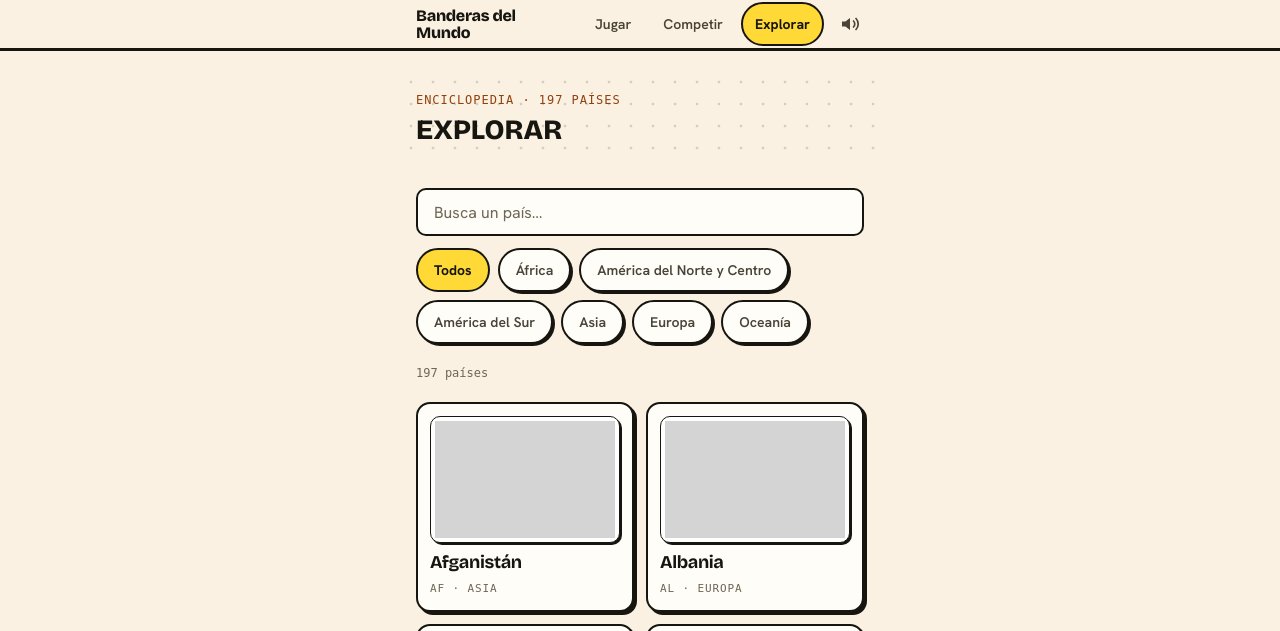
Test: Explorar › busca por "marfil", filtra por continente combinado y abre el detalle
Check: the heading "Explorar" is shown, box [416,113,562,147]
Type "marfil" into the search field named "Buscar país" at (640, 212), box [416,188,864,236]
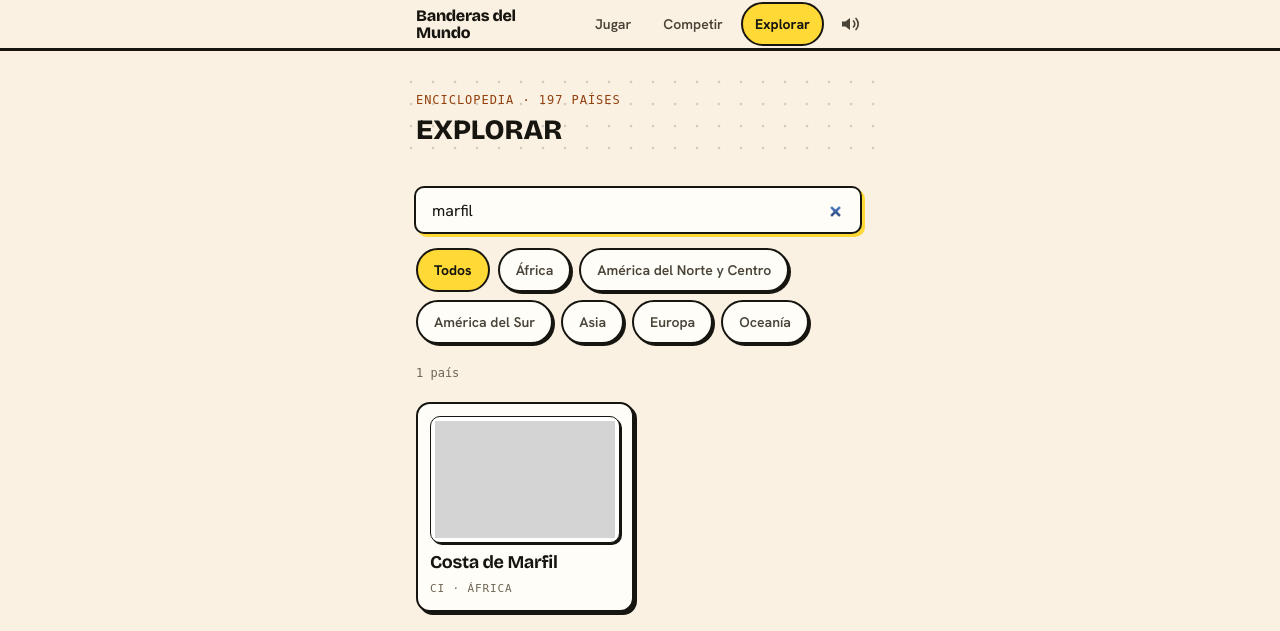
Check: the text "Costa de Marfil" is shown, box [430,551,558,573]
Check: the text "1 país" is shown, box [416,366,459,380]
El alias internacional también la encuentra ("Côte d'Ivoire", sin tildes).
Replace the text in the search field named "Buscar país" with "cote" at (638, 210), box [414,186,862,234]
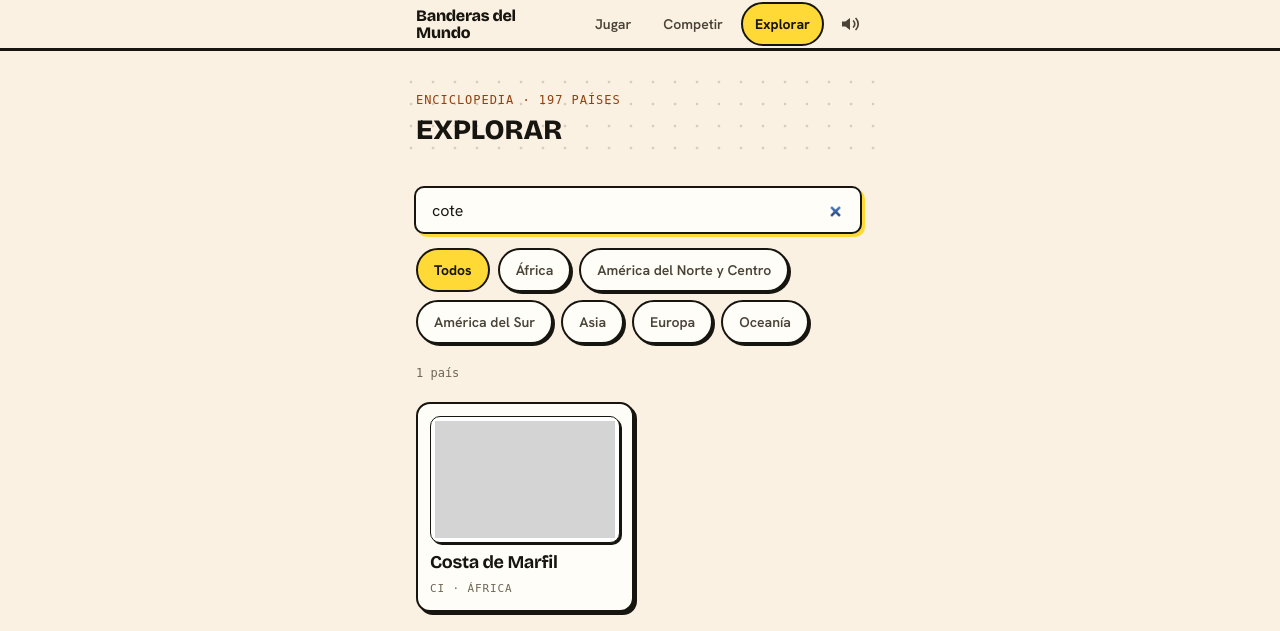
Check: the text "Costa de Marfil" is shown, box [430,551,558,573]
Click the button "Europa" at (673, 322), box [632,300,713,344]
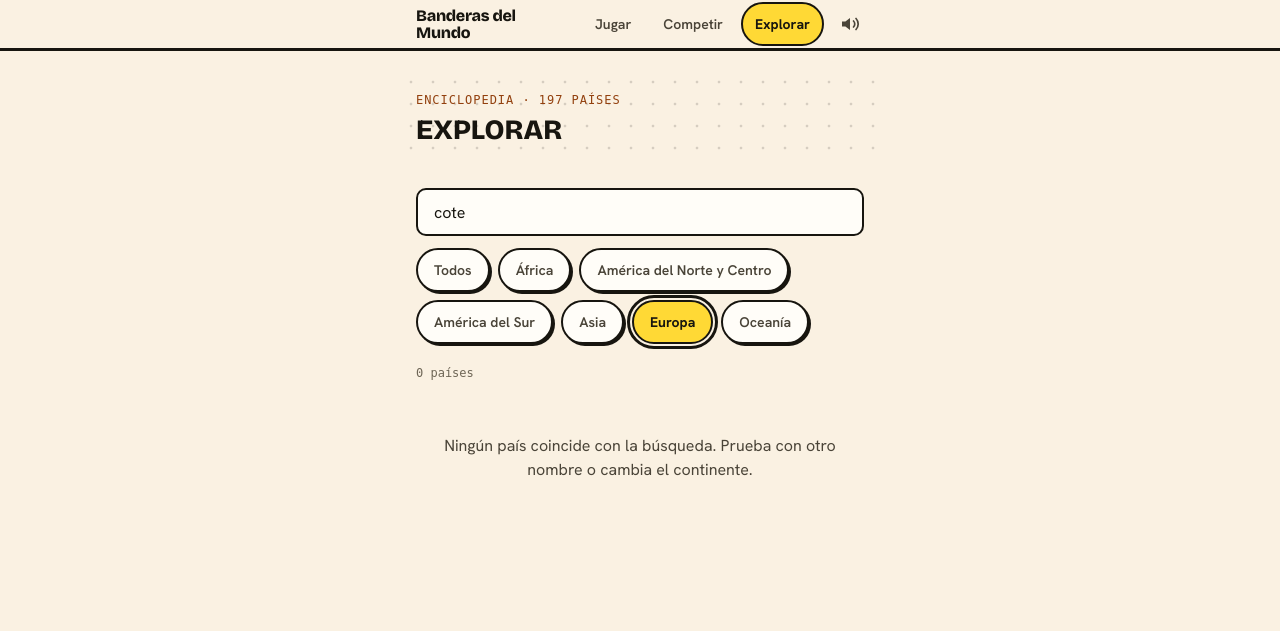
Check: the link "Costa de Marfil" is gone
Check: the text "Ningún país coincide" is shown, box [444,435,836,480]
Volver a África (donde sí está) y entrar al detalle.
Click the button "África" at (535, 270), box [498,248,571,292]
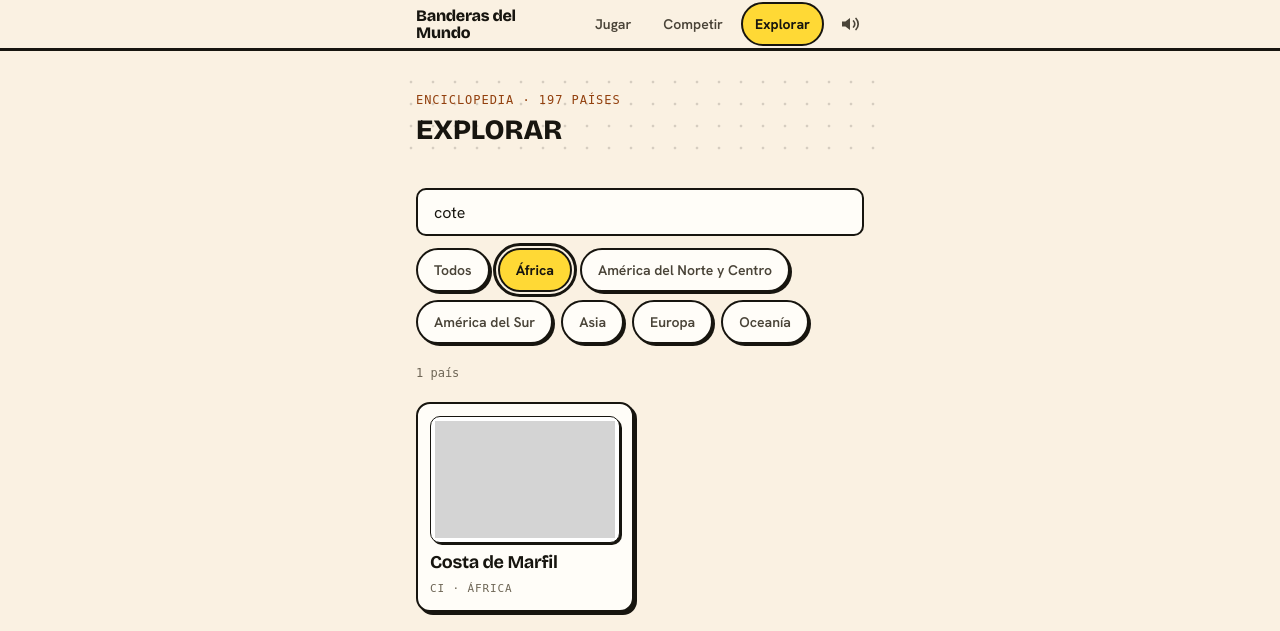
Click the text "Costa de Marfil" at (494, 562), box [430,551,558,573]
(page scrolled)
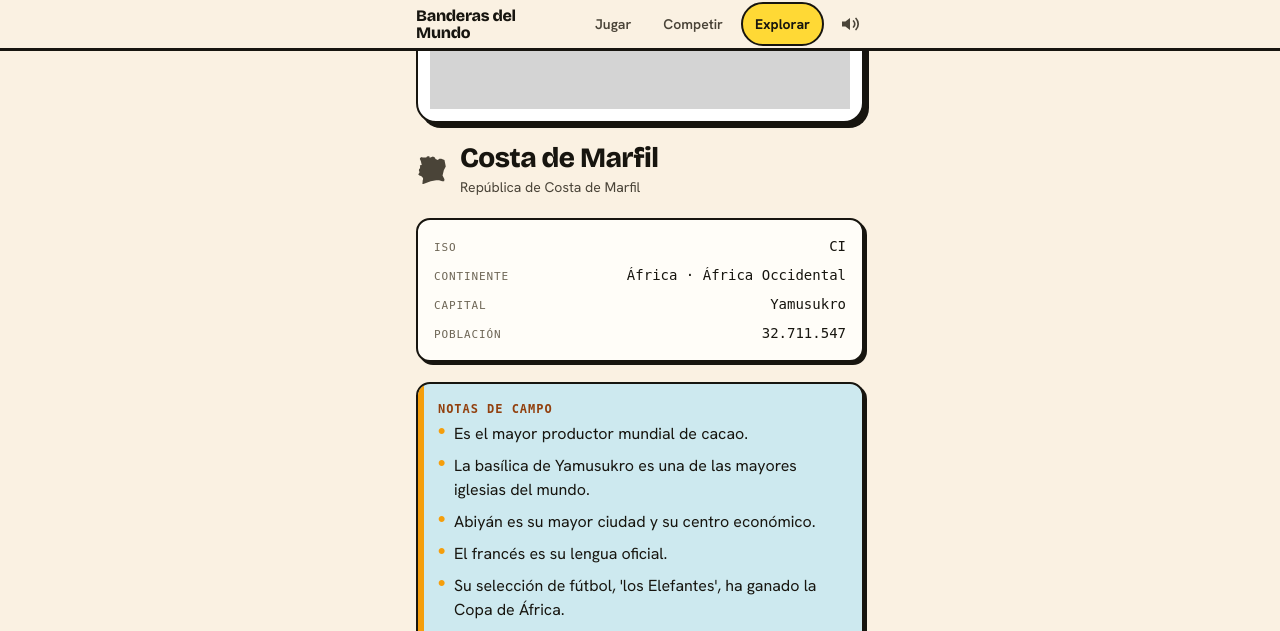
Check: the heading "Costa de Marfil" is shown, box [460,143,658,173]
Check: the text "Yamusukro" is shown, box [770,294,846,315]
Check: the text "Notas de campo" is shown, box [438,402,553,416]
